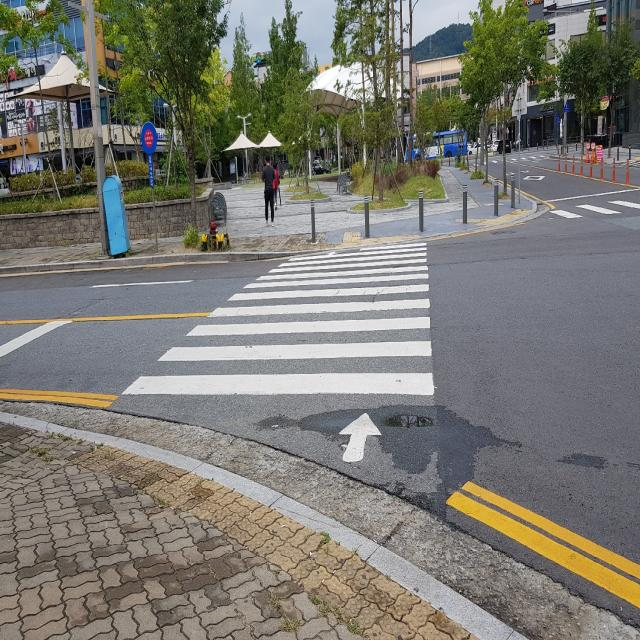횡단보도: (118, 235, 438, 467)
